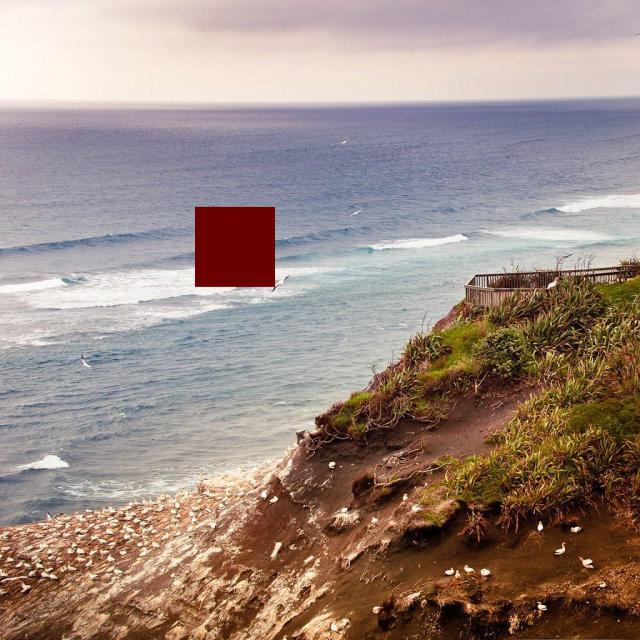RedSquare: (189, 203, 284, 290)
